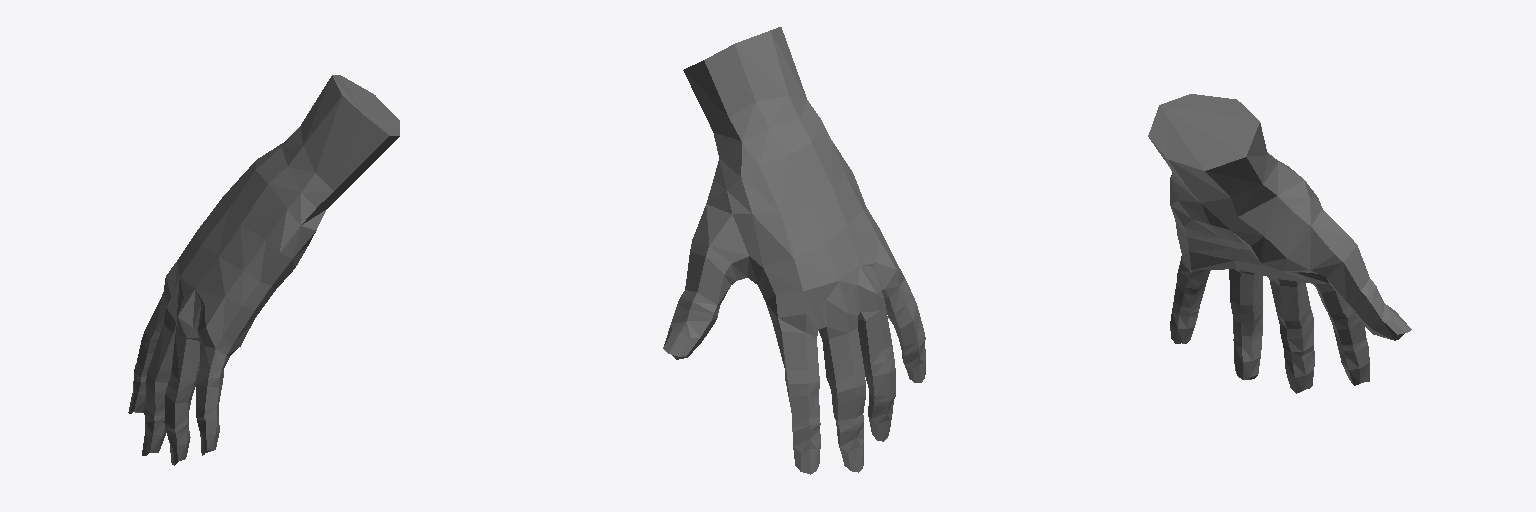
The model's file is Left Hand.obj.
3 views of the same model, side by side, from view 1: azimuth 30°, elevation 25°; view 2: azimuth 150°, elevation 25°; view 3: azimuth 270°, elevation 25° (orthographic).
Visible parts, largest first — view 1: Plane005_Untitled; view 2: Plane005_Untitled; view 3: Plane005_Untitled.
Boxes of the visible parts, box(x1,y1,x2,y2) form: Plane005_Untitled: box(128, 75, 399, 465); Plane005_Untitled: box(663, 27, 925, 474); Plane005_Untitled: box(1148, 94, 1411, 393).
Size of the model in its own units: 0.5812 by 0.9553 by 0.6237.